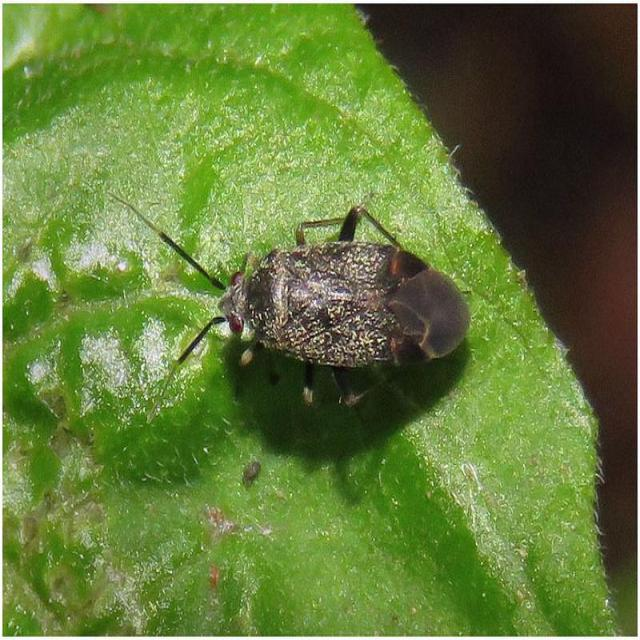Miridae-Adult-: (91, 176, 480, 410)
